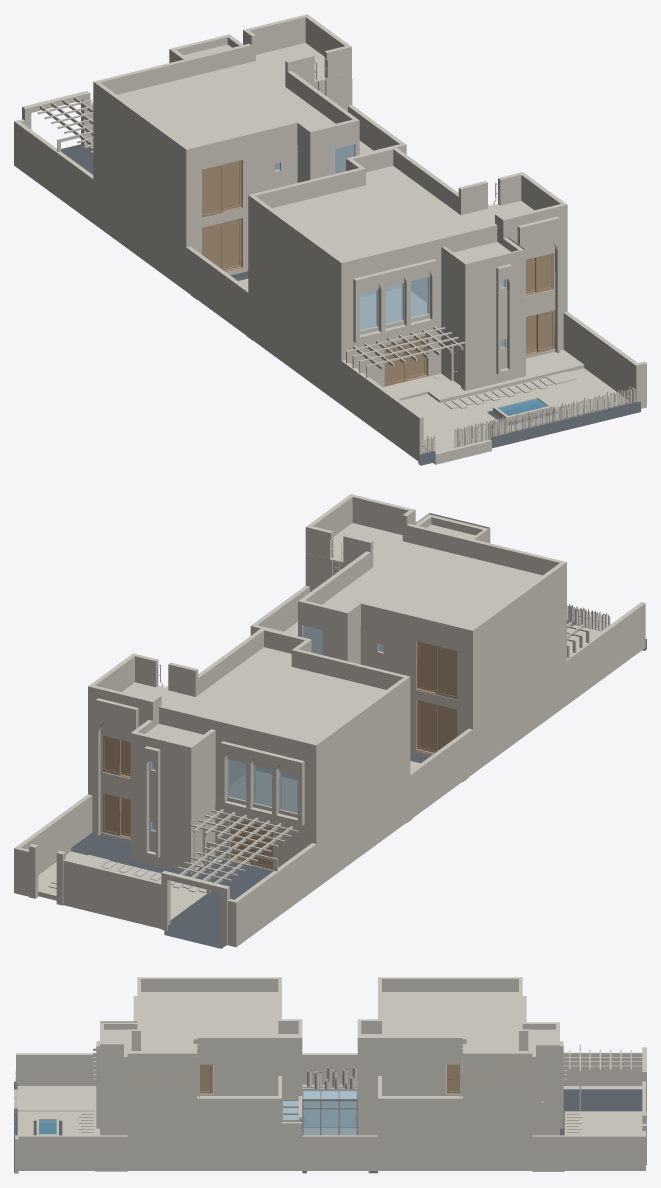
The model's file is budoor-al-najaf-management.glb.
The picture shows the model from 3 angles, top to bottom: view 1: azimuth 30°, elevation 25°; view 2: azimuth 150°, elevation 25°; view 3: azimuth 270°, elevation 25°; orthographic projection. The views are drawn at different scales.
Visible parts, largest first — view 1: stone, wood, ground, glass; view 2: stone, wood, ground, glass; view 3: stone, glass, ground, metal, wood.
Part boxes in pixels (box(x1,y1,x2,y2)): stone: box(14, 14, 646, 464); wood: box(202, 160, 554, 386); ground: box(61, 144, 640, 465); glass: box(275, 144, 504, 347); stone: box(14, 494, 645, 947); wood: box(102, 641, 457, 869); ground: box(71, 620, 646, 948); glass: box(151, 625, 383, 830); stone: box(14, 977, 646, 1173); glass: box(283, 1090, 356, 1135); ground: box(14, 1081, 642, 1173); metal: box(282, 1089, 357, 1135); wood: box(200, 1064, 459, 1093).
Size of the model in its own units: 32.15 by 21.61 by 100.
